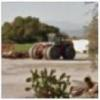tractors: (29, 33, 76, 61)
